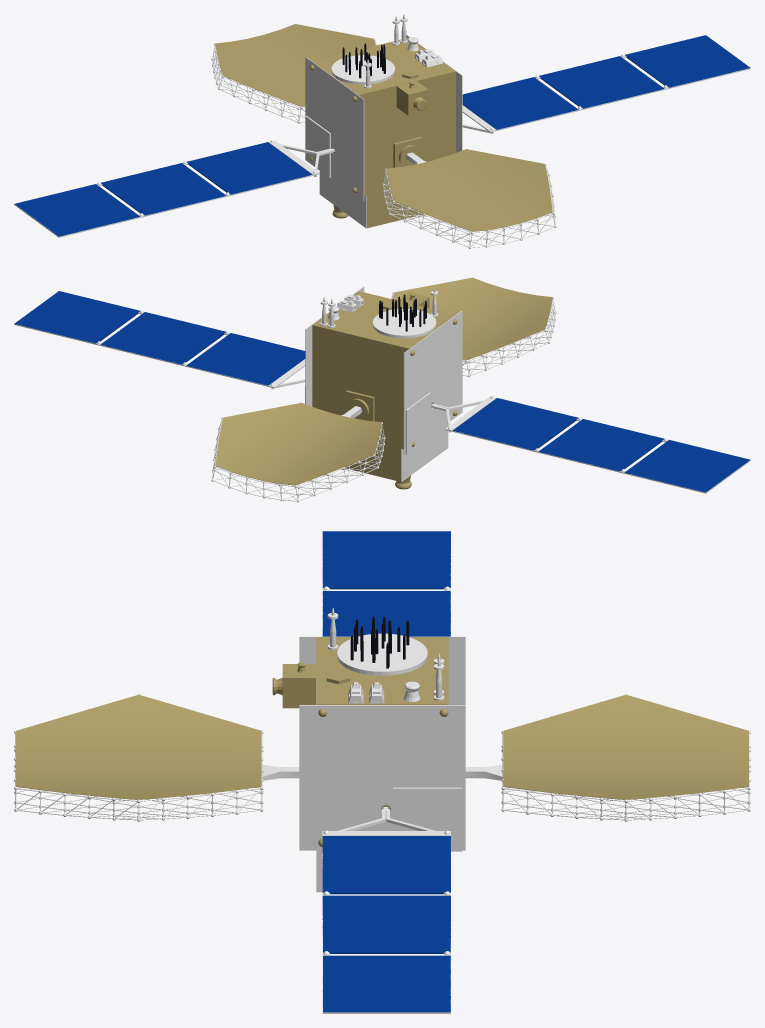
3 views of the same model, one above another, from view 1: azimuth 30°, elevation 25°; view 2: azimuth 150°, elevation 25°; view 3: azimuth 270°, elevation 25° (orthographic). The views are drawn at different scales.
Visible parts, largest first — view 1: 01_1-材质.4, 02_1_1-材质.2, 主体_1-材质.2, 主体_1-材质.3, 02_1_1-材质.3, 01_1-材质.3, 主体_1-材质.1; view 2: 01_1-材质.4, 02_1_1-材质.2, 主体_1-材质.2, 主体_1-材质.3, 02_1_1-材质.3, 01_1-材质.3, 主体_1-材质.1; view 3: 02_1_1-材质.2, 01_1-材质.4, 主体_1-材质.3, 02_1_1-材质.3, 主体_1-材质.2, 01_1-材质.3, 主体_1-材质.1.
Part boxes in pixels (bbox=[...]): 01_1-材质.4: bbox=[15, 35, 750, 236]; 02_1_1-材质.2: bbox=[215, 24, 552, 231]; 主体_1-材质.2: bbox=[310, 37, 455, 228]; 主体_1-材质.3: bbox=[305, 14, 462, 228]; 02_1_1-材质.3: bbox=[211, 32, 556, 248]; 01_1-材质.3: bbox=[14, 38, 750, 237]; 主体_1-材质.1: bbox=[342, 43, 385, 78]; 01_1-材质.4: bbox=[14, 291, 750, 492]; 02_1_1-材质.2: bbox=[215, 277, 552, 485]; 主体_1-材质.2: bbox=[312, 291, 457, 489]; 主体_1-材质.3: bbox=[305, 286, 462, 481]; 02_1_1-材质.3: bbox=[211, 286, 556, 502]; 01_1-材质.3: bbox=[14, 303, 750, 493]; 主体_1-材质.1: bbox=[379, 294, 426, 331]; 02_1_1-材质.2: bbox=[16, 695, 748, 799]; 01_1-材质.4: bbox=[322, 531, 450, 1012]; 主体_1-材质.3: bbox=[299, 608, 465, 892]; 02_1_1-材质.3: bbox=[14, 694, 750, 821]; 主体_1-材质.2: bbox=[272, 637, 448, 847]; 01_1-材质.3: bbox=[322, 531, 450, 1013]; 主体_1-材质.1: bbox=[350, 616, 409, 668].
Bounding box in the file's own units: 2134 × 525 × 1381.
